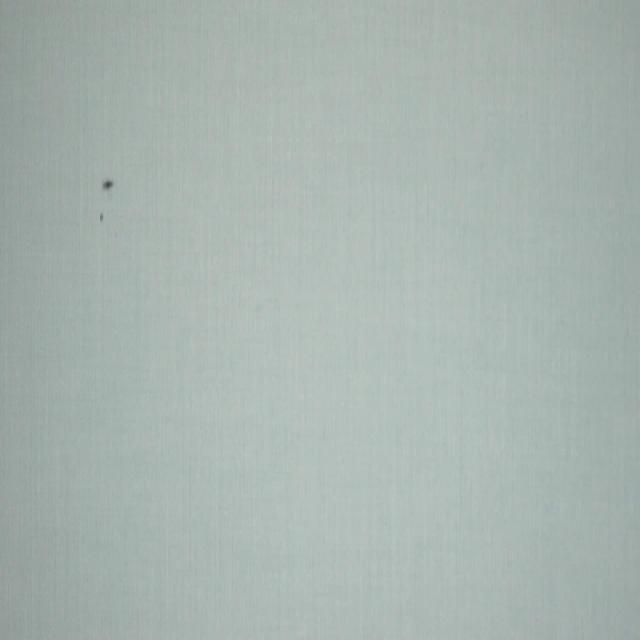dirty: (102, 178, 115, 192), (99, 214, 105, 223)
